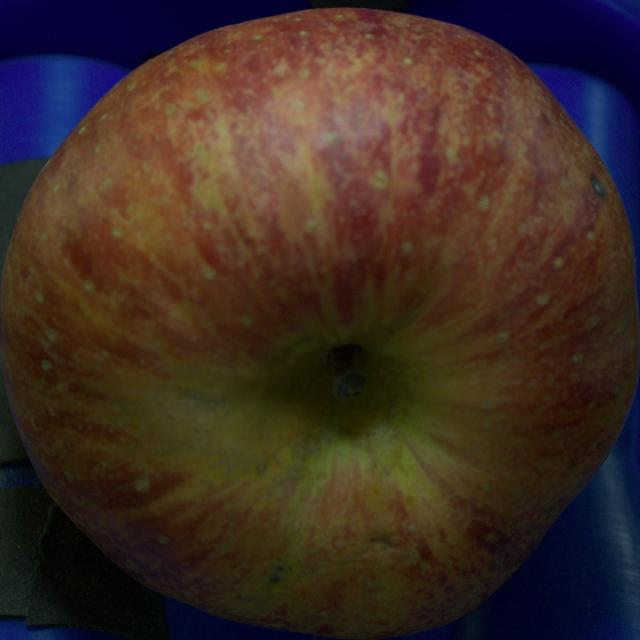apple: (0, 8, 639, 639)
